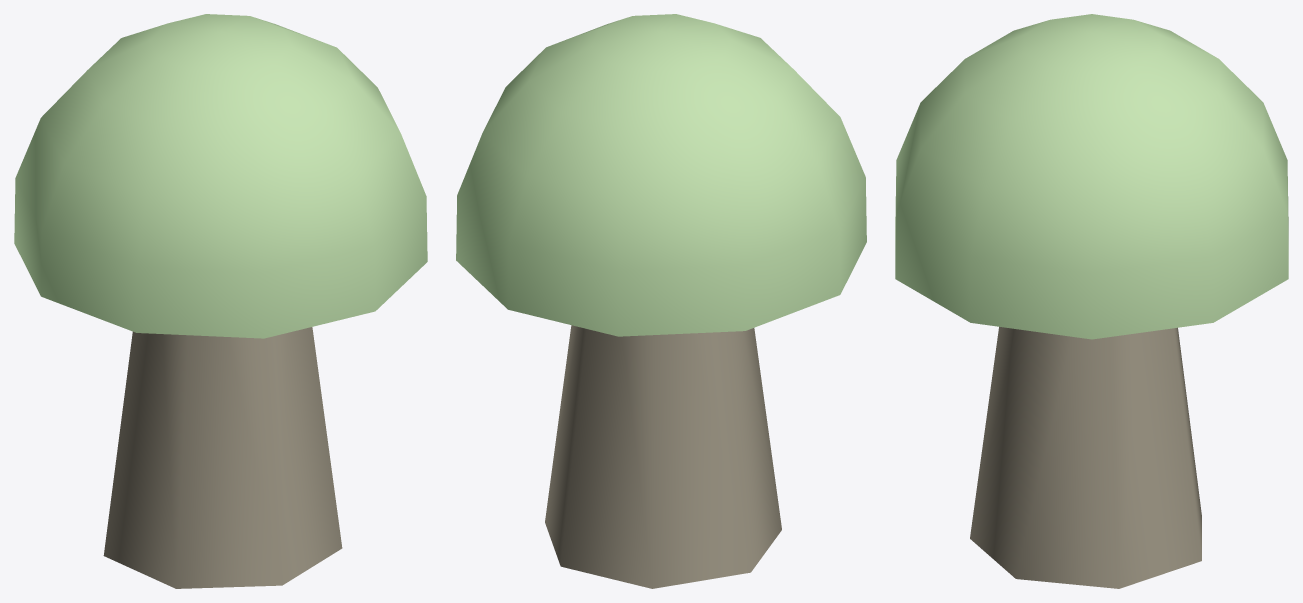
Rendered from mushroom-glow.glb.
The picture shows the model from 3 angles, left to right: view 1: azimuth 30°, elevation 25°; view 2: azimuth 150°, elevation 25°; view 3: azimuth 270°, elevation 25°; orthographic projection.
Visible parts, largest first — view 1: mushroom-glow; view 2: mushroom-glow; view 3: mushroom-glow.
Part boxes in pixels (x1=…): mushroom-glow: x1=14, y1=14, x2=427, y2=588; mushroom-glow: x1=456, y1=14, x2=866, y2=588; mushroom-glow: x1=895, y1=14, x2=1288, y2=588.
Bounding box in the file's own units: 0.1185 × 0.16 × 0.1127.
